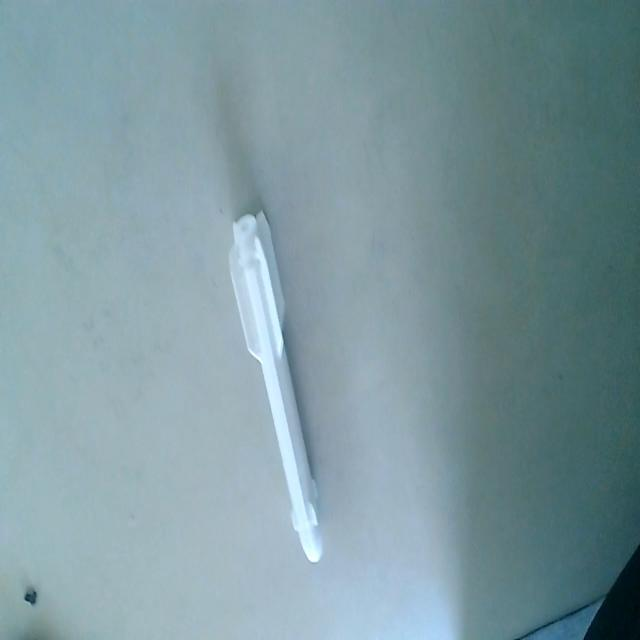Rocket: (227, 206, 326, 568)
